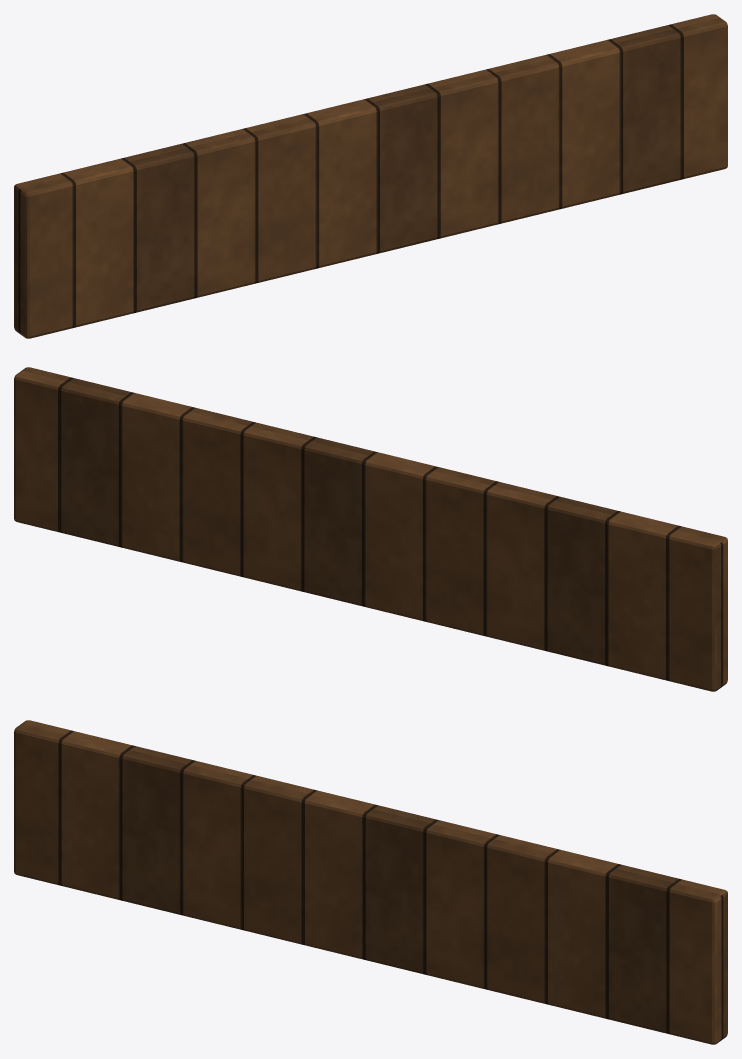
The model's file is Street_BenchBack0.obj.
3 renders of one model, top to bottom at view 1: azimuth 30°, elevation 25°; view 2: azimuth 150°, elevation 25°; view 3: azimuth 330°, elevation 25°, orthographic.
Bounding box in the file's own units: 1.7 × 0.34 × 0.06.
1 material, 1 textured.
